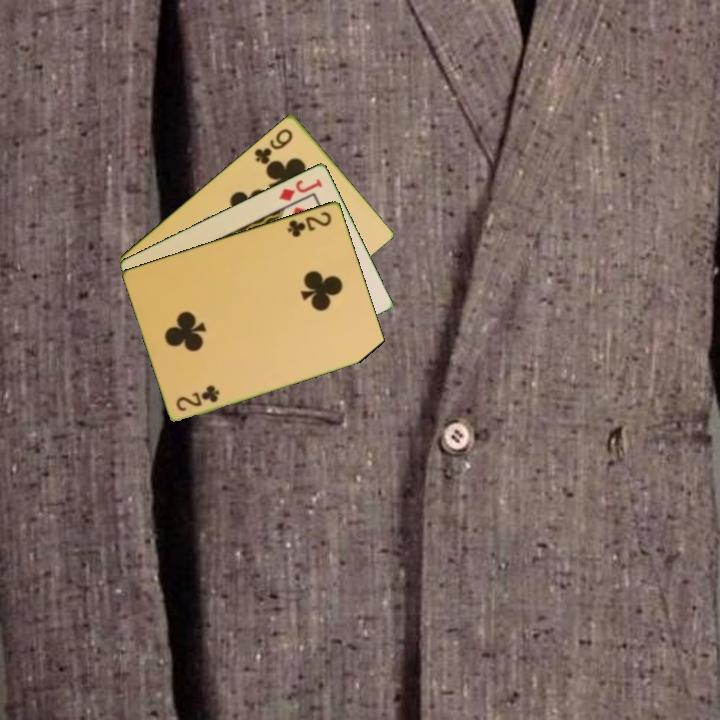2c: (284, 207, 335, 240), (173, 382, 223, 414)
9c: (251, 124, 296, 167)
Jd: (275, 175, 325, 204)
